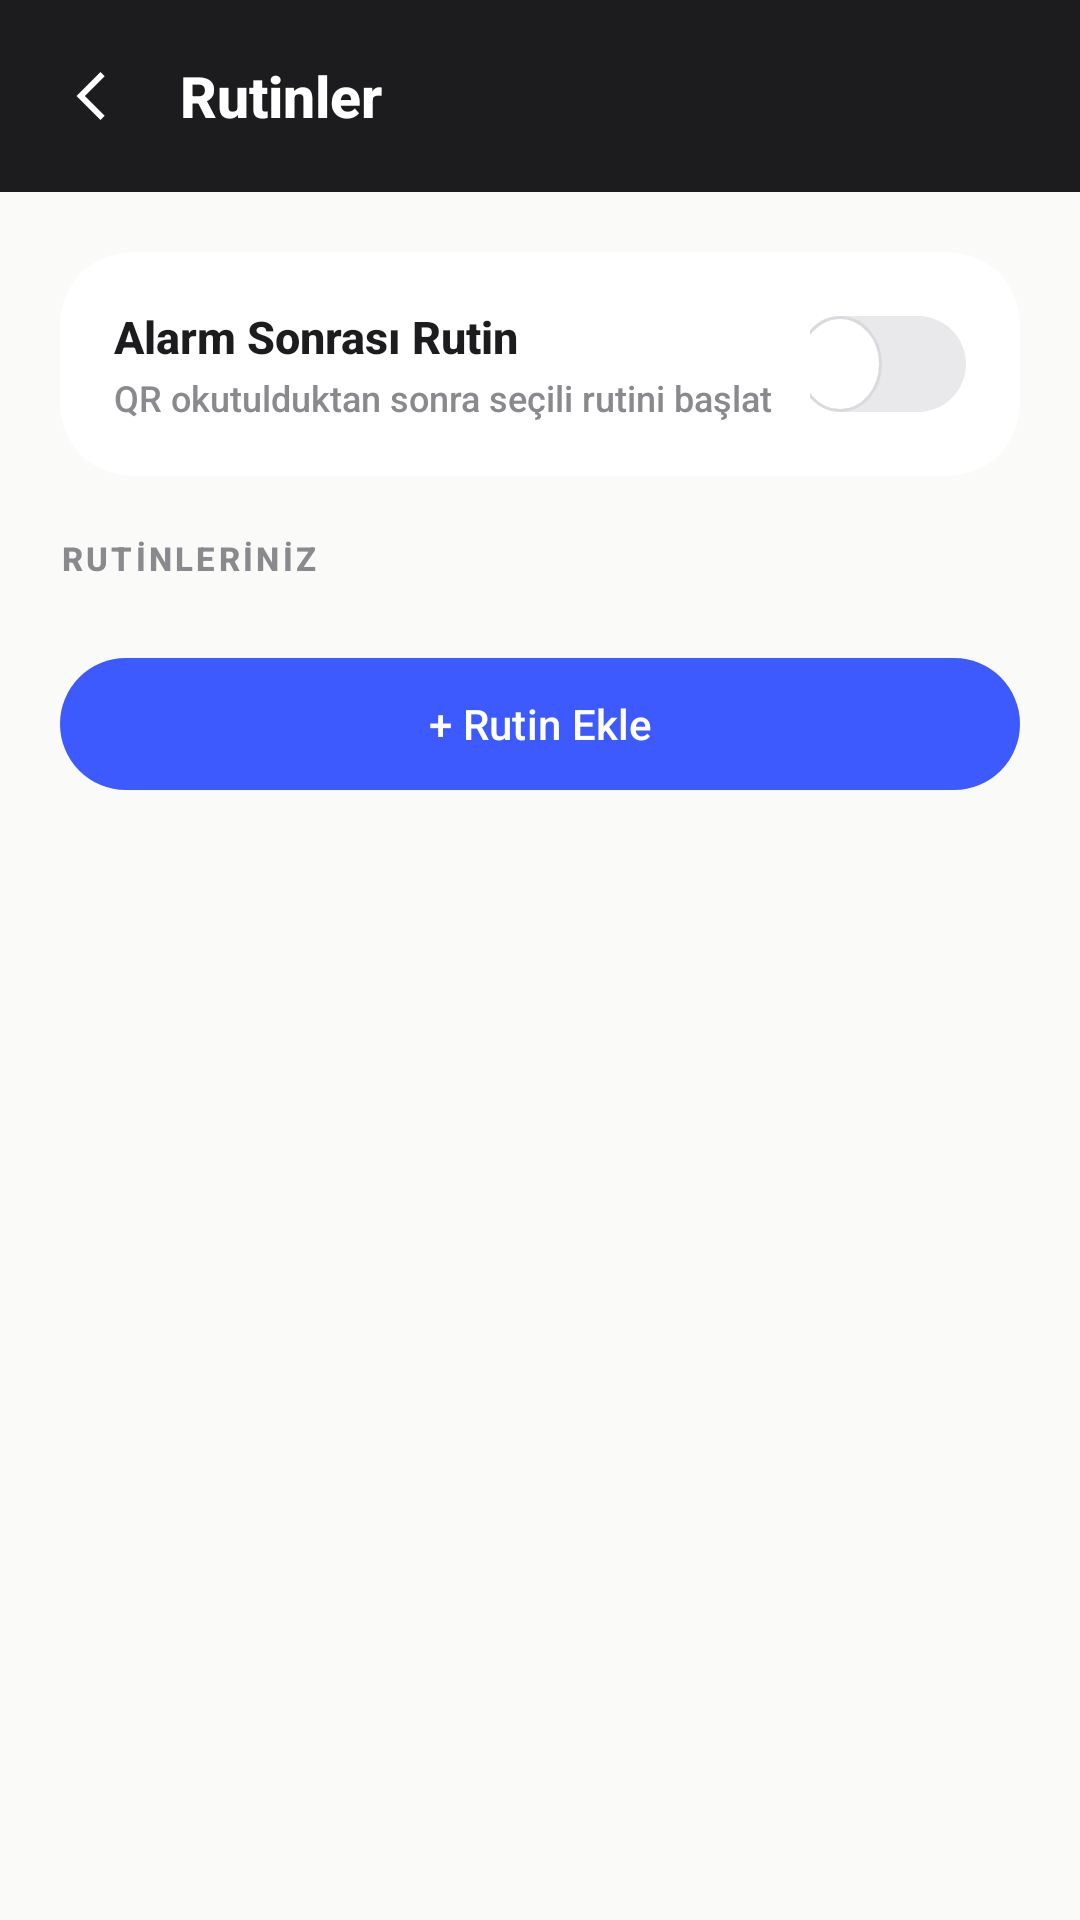

Where to tap for icons on this 1080px×1920px app screen, as (x=x, y=y):
Back: (x=90, y=96)
